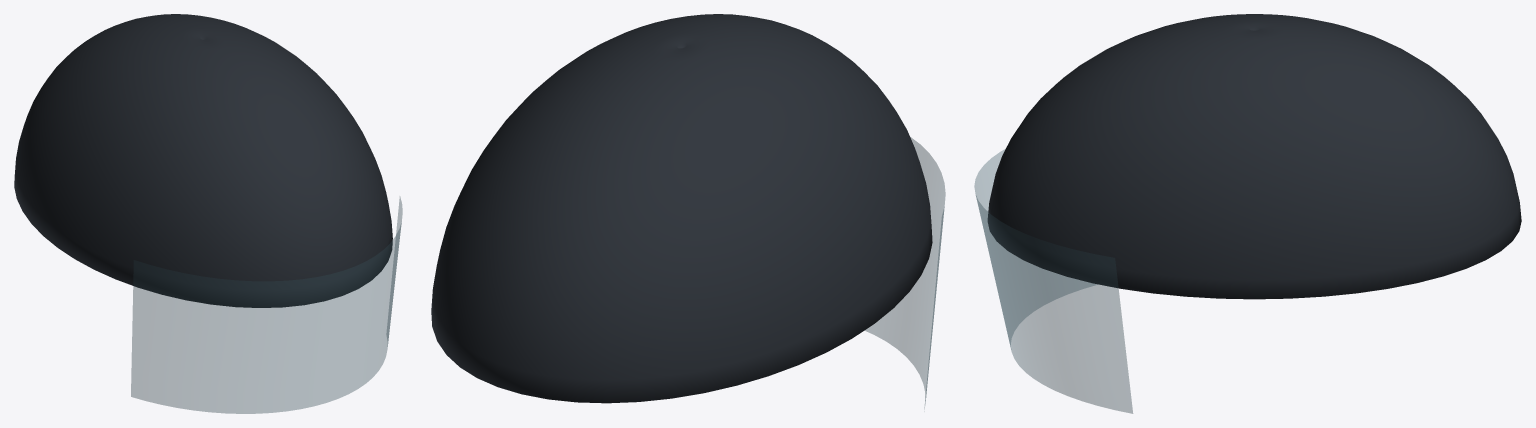
The model's file is toufic_helmet.glb.
3 renders of one model, left to right at view 1: azimuth 30°, elevation 25°; view 2: azimuth 150°, elevation 25°; view 3: azimuth 270°, elevation 25°, orthographic. The views are drawn at different scales.
Parts seen in each view (by area): view 1: HELMET_BASE, HELMET_VISOR; view 2: HELMET_BASE, HELMET_VISOR; view 3: HELMET_BASE, HELMET_VISOR.
Part boxes in pixels (left/top/right/bottom): HELMET_BASE: left=14, top=14, right=392, bottom=307; HELMET_VISOR: left=131, top=197, right=402, bottom=413; HELMET_BASE: left=431, top=14, right=932, bottom=403; HELMET_VISOR: left=865, top=137, right=945, bottom=408; HELMET_BASE: left=987, top=14, right=1521, bottom=299; HELMET_VISOR: left=974, top=149, right=1132, bottom=413.
Size of what is drawn, in the model's own units: 0.226 by 0.213 by 0.334.
